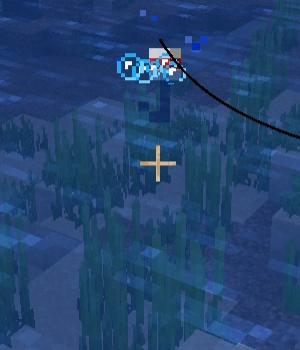up: (136, 41, 187, 123)
